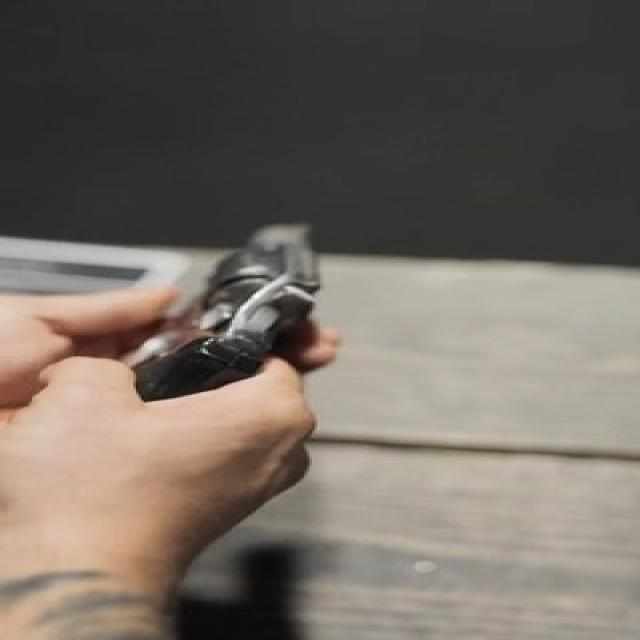Gun_Holder: (80, 212, 433, 452)
